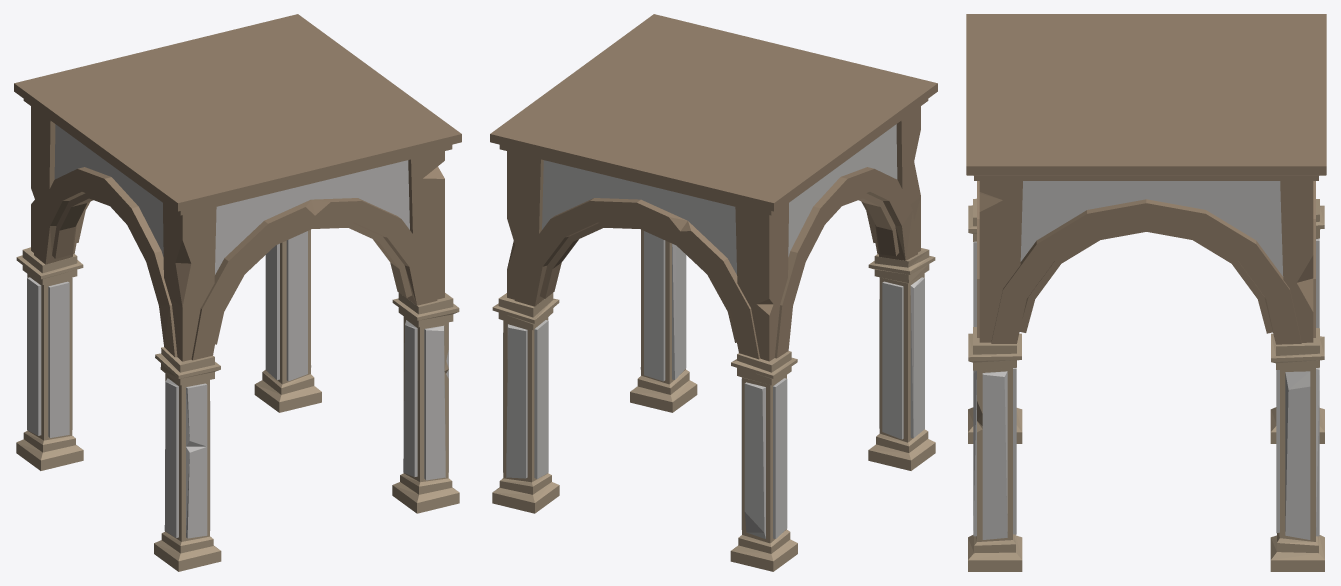
The model's file is SM_Bld_Cuba_Arch_01.glb.
The picture shows the model from 3 angles, left to right: view 1: azimuth 30°, elevation 25°; view 2: azimuth 150°, elevation 25°; view 3: azimuth 270°, elevation 25°; orthographic projection. The views are drawn at different scales.
Visible parts, largest first — view 1: SM_Bld_Cuba_Arch_01_part00; view 2: SM_Bld_Cuba_Arch_01_part00; view 3: SM_Bld_Cuba_Arch_01_part00.
Part boxes in pixels (bbox=[...]): SM_Bld_Cuba_Arch_01_part00: bbox=[14, 14, 461, 571]; SM_Bld_Cuba_Arch_01_part00: bbox=[490, 14, 937, 571]; SM_Bld_Cuba_Arch_01_part00: bbox=[966, 14, 1326, 571].
Bounding box in the file's own units: 3.79 × 4.71 × 3.79.
Materials: 1 (1 with a texture image).
